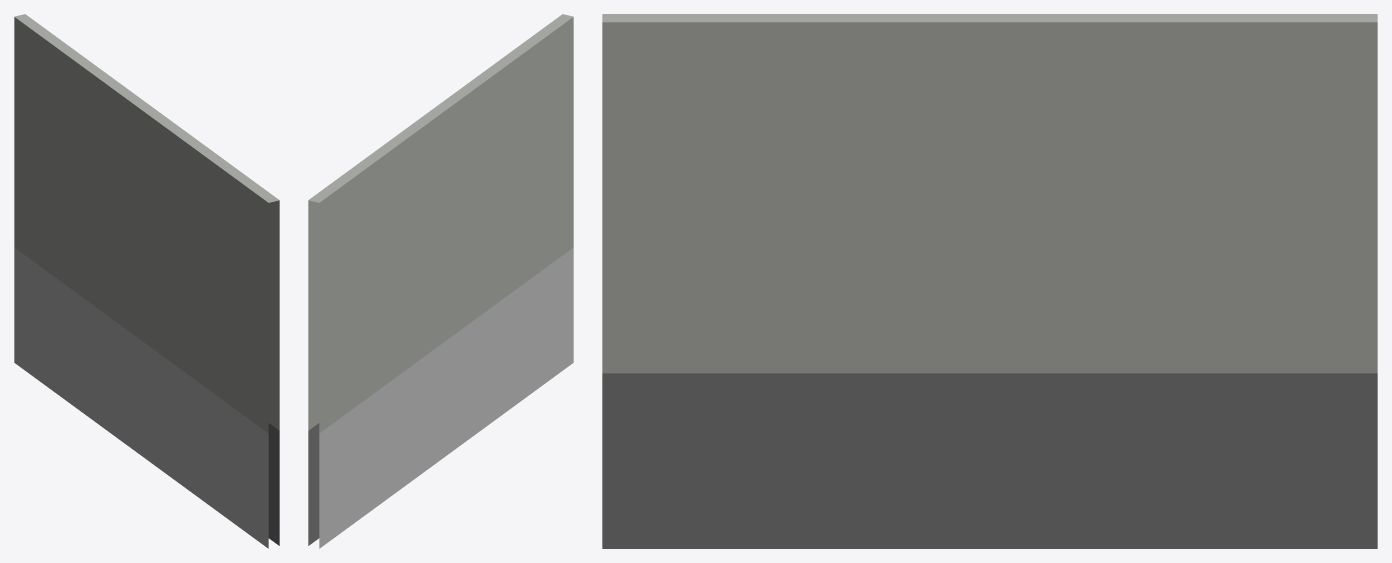
Rendered from SM_Wall_400.fbx.
3 views of the same model, side by side, from view 1: azimuth 30°, elevation 25°; view 2: azimuth 150°, elevation 25°; view 3: azimuth 270°, elevation 25° (orthographic). The views are drawn at different scales.
Parts seen in each view (by area): view 1: SM_Wall_400; view 2: SM_Wall_400; view 3: SM_Wall_400.
Part boxes in pixels (<box>): SM_Wall_400: <box>14,14,279,548</box>; SM_Wall_400: <box>308,14,573,548</box>; SM_Wall_400: <box>602,14,1377,548</box>.
Size of the model in its own units: 10 by 300 by 400.
